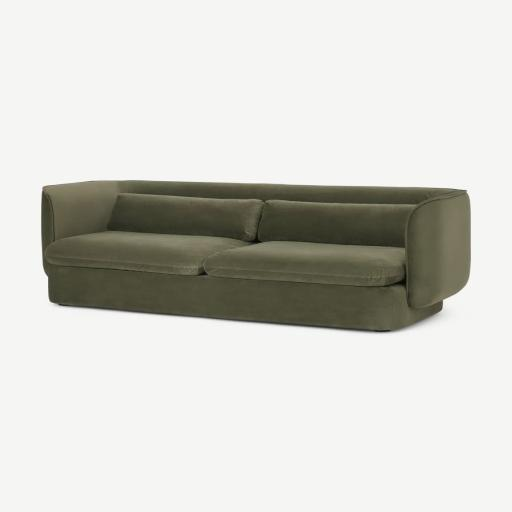back_cushion: (109, 194, 412, 247)
base: (48, 265, 442, 331)
left_arm: (406, 191, 470, 308)
right_arm: (41, 181, 117, 254)
seat_cushion: (46, 231, 405, 286)
two-seater: (0, 0, 511, 512)
